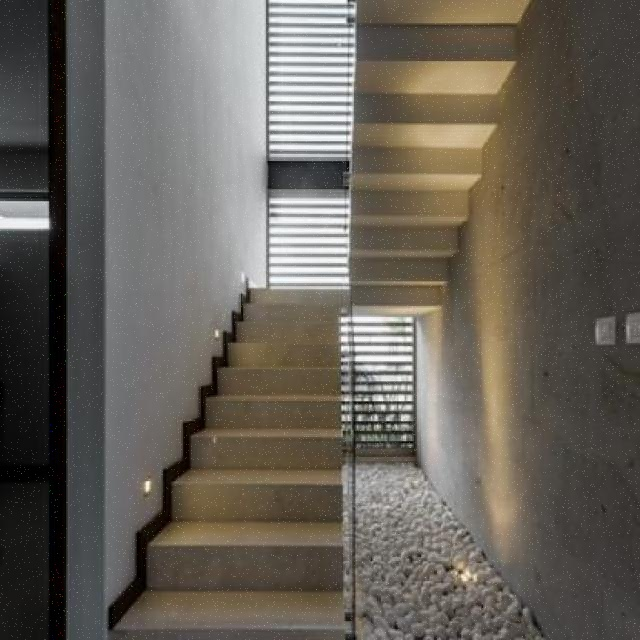stair: (104, 227, 362, 639), (340, 0, 546, 320)
